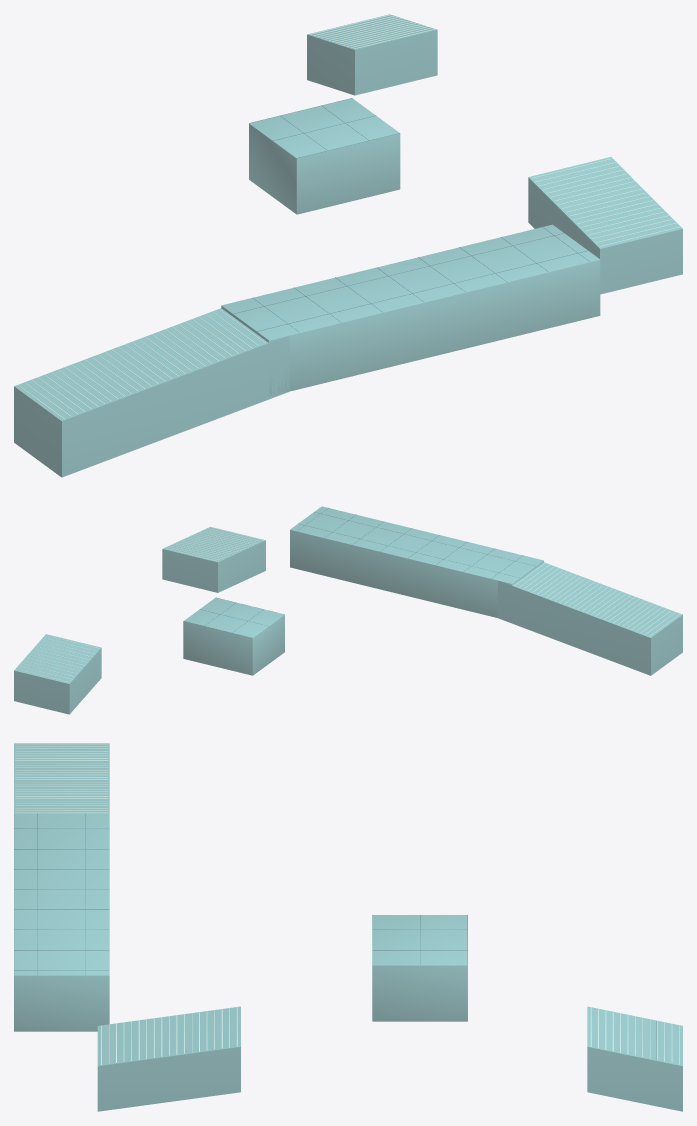
Rendered from atlantis_district_roads.glb.
3 views of the same model, one above another, from view 1: azimuth 30°, elevation 25°; view 2: azimuth 150°, elevation 25°; view 3: azimuth 270°, elevation 25° (orthographic). The views are drawn at different scales.
Parts seen in each view (by area): view 1: atlantis_district_roads_surface; view 2: atlantis_district_roads_surface; view 3: atlantis_district_roads_surface.
Part boxes in pixels (<box>): atlantis_district_roads_surface: <box>14,14,682,477</box>; atlantis_district_roads_surface: <box>14,506,682,714</box>; atlantis_district_roads_surface: <box>14,743,682,1111</box>.
Bounding box in the file's own units: 64 × 8.02 × 56.
